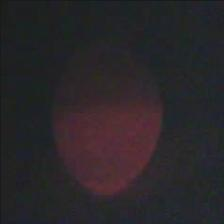fertile: (52, 47, 164, 195)
